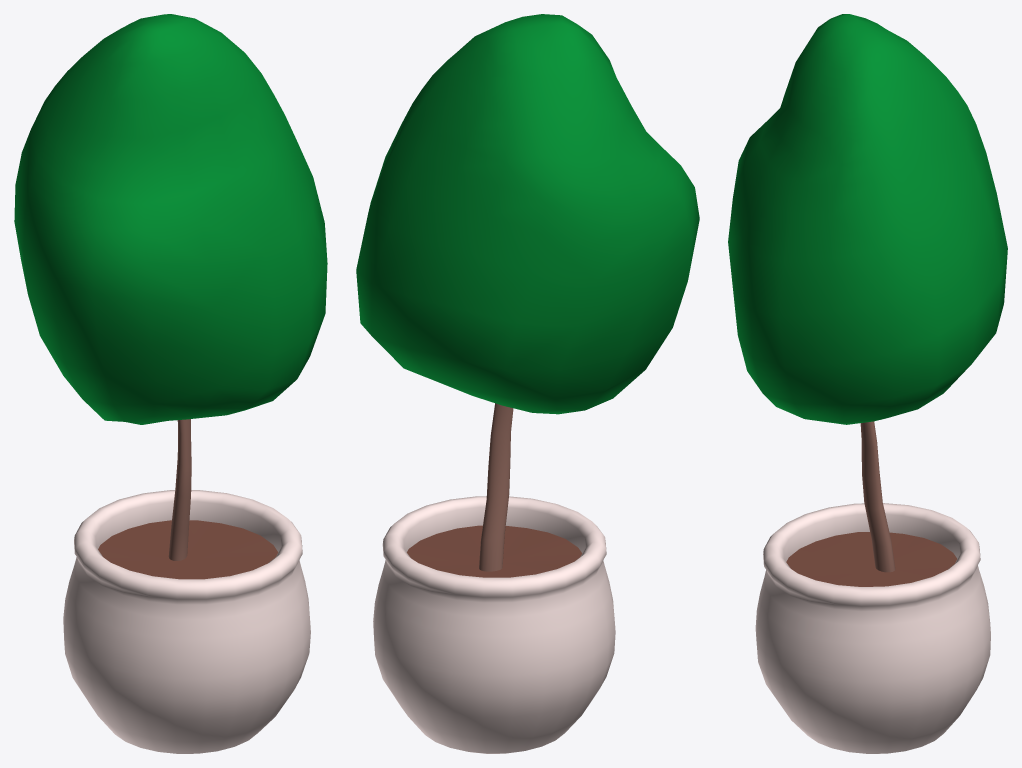
The model's file is Town_5_Plant_1.glb.
3 views of the same model, side by side, from view 1: azimuth 30°, elevation 25°; view 2: azimuth 150°, elevation 25°; view 3: azimuth 270°, elevation 25° (orthographic). The views are drawn at different scales.
Parts seen in each view (by area): view 1: Town_5_Plant_1; view 2: Town_5_Plant_1; view 3: Town_5_Plant_1.
Boxes of the visible parts, x1,y1,x2,y2 form: Town_5_Plant_1: (14,14,327,753); Town_5_Plant_1: (356,14,699,753); Town_5_Plant_1: (728,14,1007,753).
Bounding box in the file's own units: 1.09 × 2.58 × 0.9537.
1 material, 1 textured.
